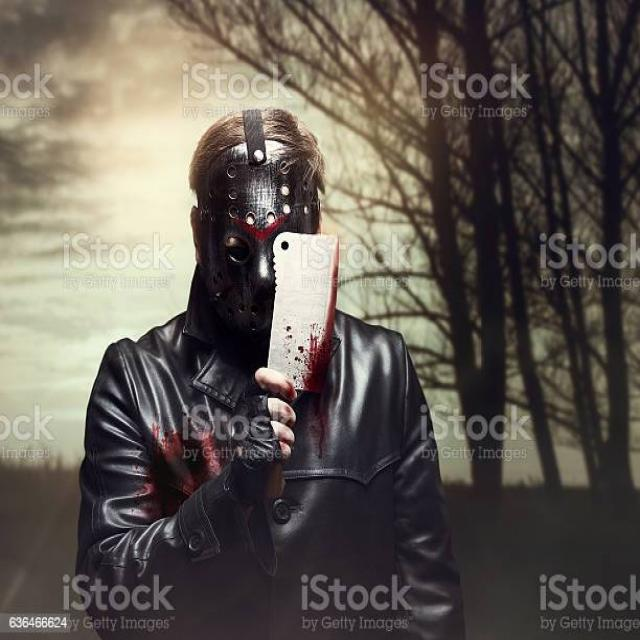cleaver: (218, 232, 342, 510)
